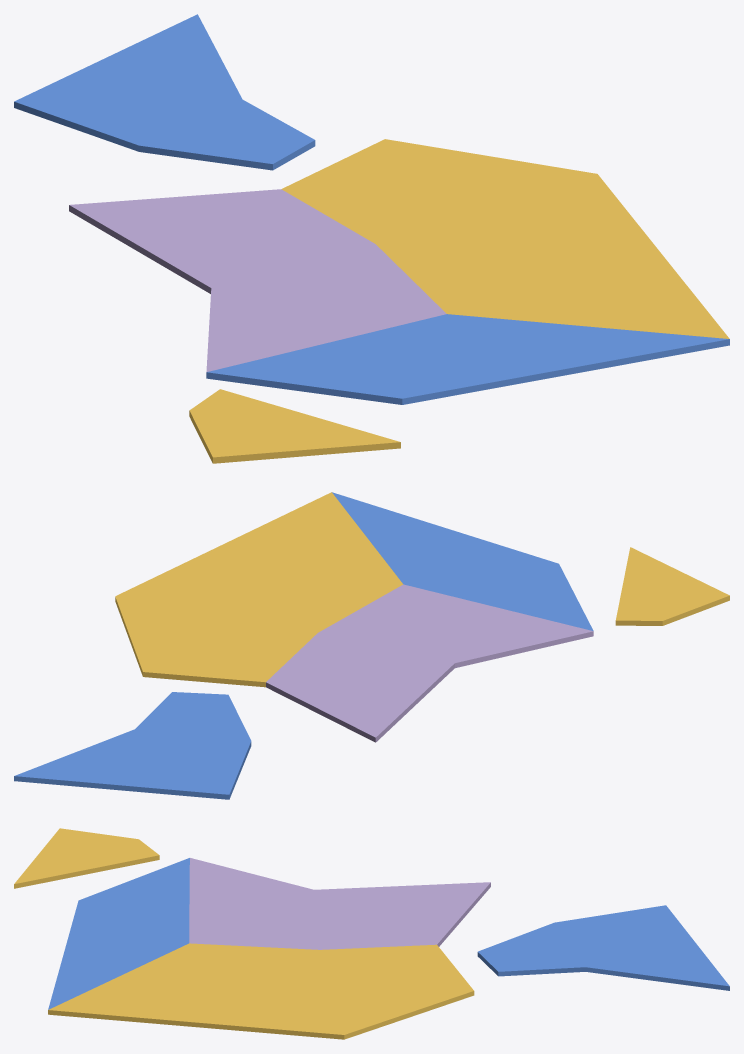
Rendered from Playground.fbx.
3 renders of one model, top to bottom at view 1: azimuth 30°, elevation 25°; view 2: azimuth 150°, elevation 25°; view 3: azimuth 270°, elevation 25°, orthographic. The views are drawn at different scales.
Parts seen in each view (by area): view 1: Playground; view 2: Playground; view 3: Playground.
Boxes of the visible parts, bbox=[...] form: Playground: bbox=[14, 14, 729, 463]; Playground: bbox=[14, 492, 729, 799]; Playground: bbox=[14, 828, 729, 1039].
Bounding box in the file's own units: 353 × 516 × 3.69.
